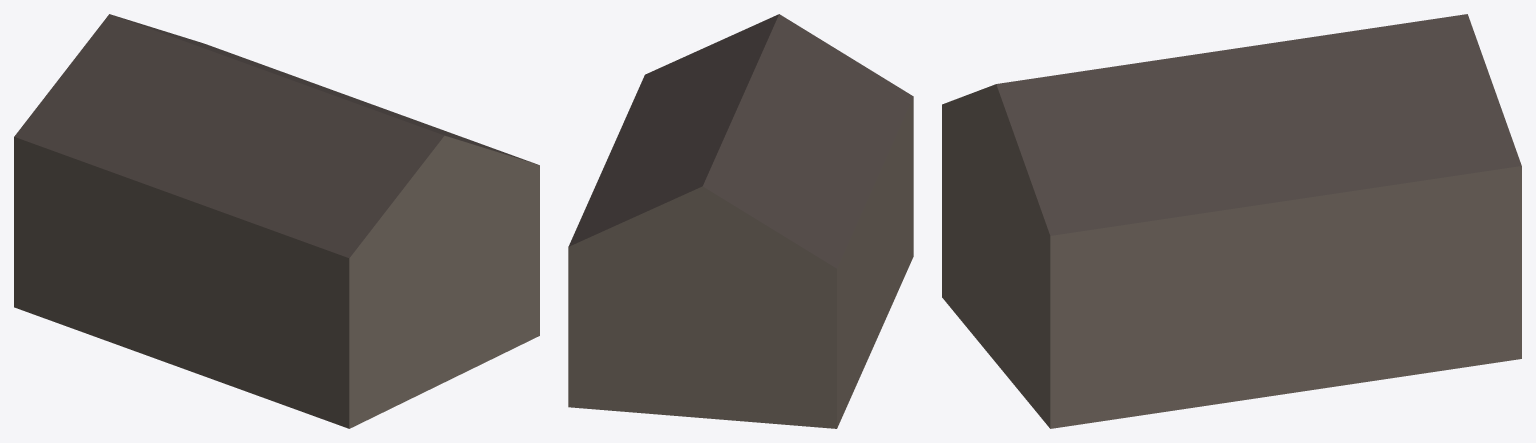
3 renders of one model, left to right at view 1: azimuth 30°, elevation 25°; view 2: azimuth 150°, elevation 25°; view 3: azimuth 270°, elevation 25°, orthographic. The views are drawn at different scales.
Visible parts, largest first — view 1: HP-w1376988775; view 2: HP-w1376988775; view 3: HP-w1376988775.
Part boxes in pixels (x1,y1,x2,y2): HP-w1376988775: [14, 14, 539, 428]; HP-w1376988775: [568, 14, 913, 428]; HP-w1376988775: [942, 14, 1521, 428].
Bounding box in the file's own units: 13.44 × 8.68 × 16.33.
